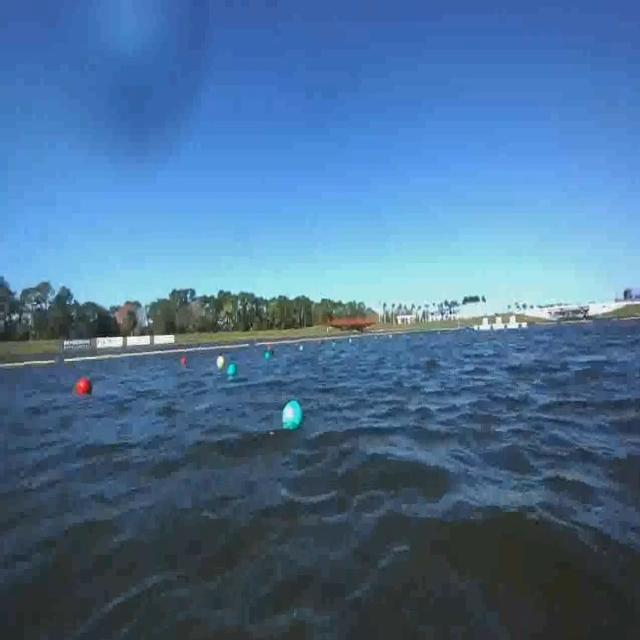green-buoy: (282, 401, 303, 431), (227, 362, 236, 376)
red-buoy: (76, 375, 92, 395), (184, 356, 189, 366)
yellow-buoy: (217, 355, 225, 369)
